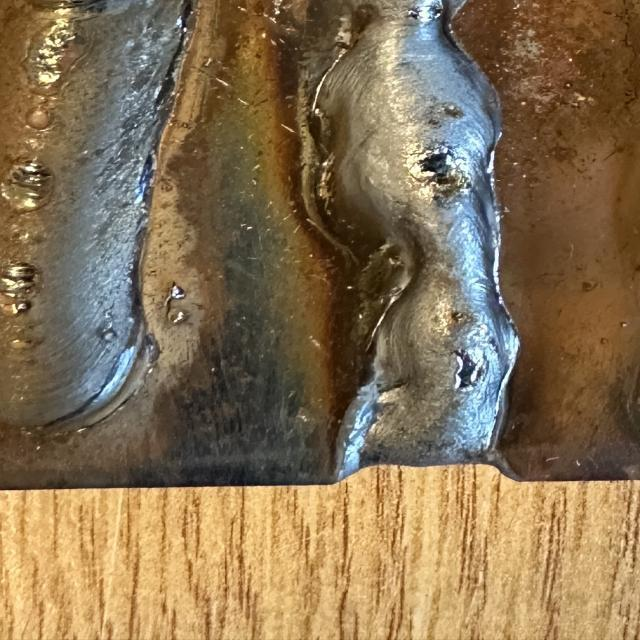Bad Welding: (312, 0, 521, 476)
Excess Reinforcement: (36, 1, 107, 83), (0, 161, 56, 211), (1, 265, 36, 314), (453, 355, 480, 395)
Porosity: (418, 156, 454, 188)
